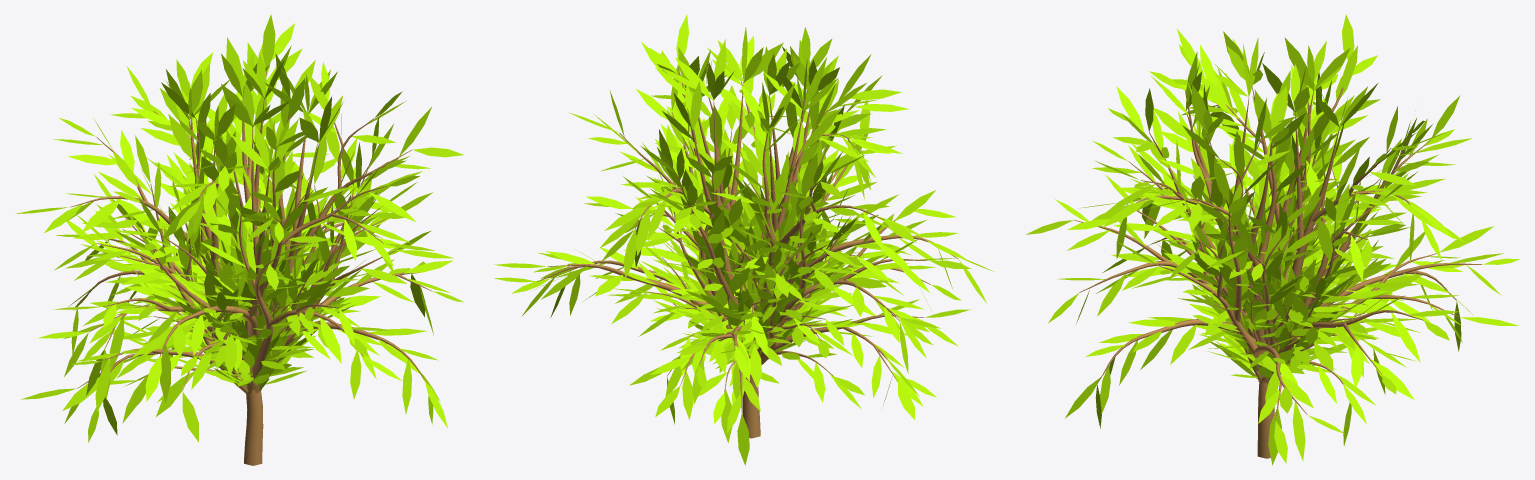
Rendered from bush.glb.
3 renders of one model, left to right at view 1: azimuth 30°, elevation 25°; view 2: azimuth 150°, elevation 25°; view 3: azimuth 270°, elevation 25°, orthographic. The views are drawn at different scales.
Visible parts, largest first — view 1: leaves.002, tree.002; view 2: leaves.002, tree.002; view 3: leaves.002, tree.002.
Boxes of the visible parts, x1,y1,x2,y2 form: leaves.002: [15, 14, 463, 442]; tree.002: [70, 71, 432, 465]; leaves.002: [494, 14, 994, 465]; tree.002: [537, 67, 958, 438]; leaves.002: [1025, 14, 1519, 465]; tree.002: [1074, 86, 1482, 458].
Bounding box in the file's own units: 2.52 × 2.2 × 2.43.
